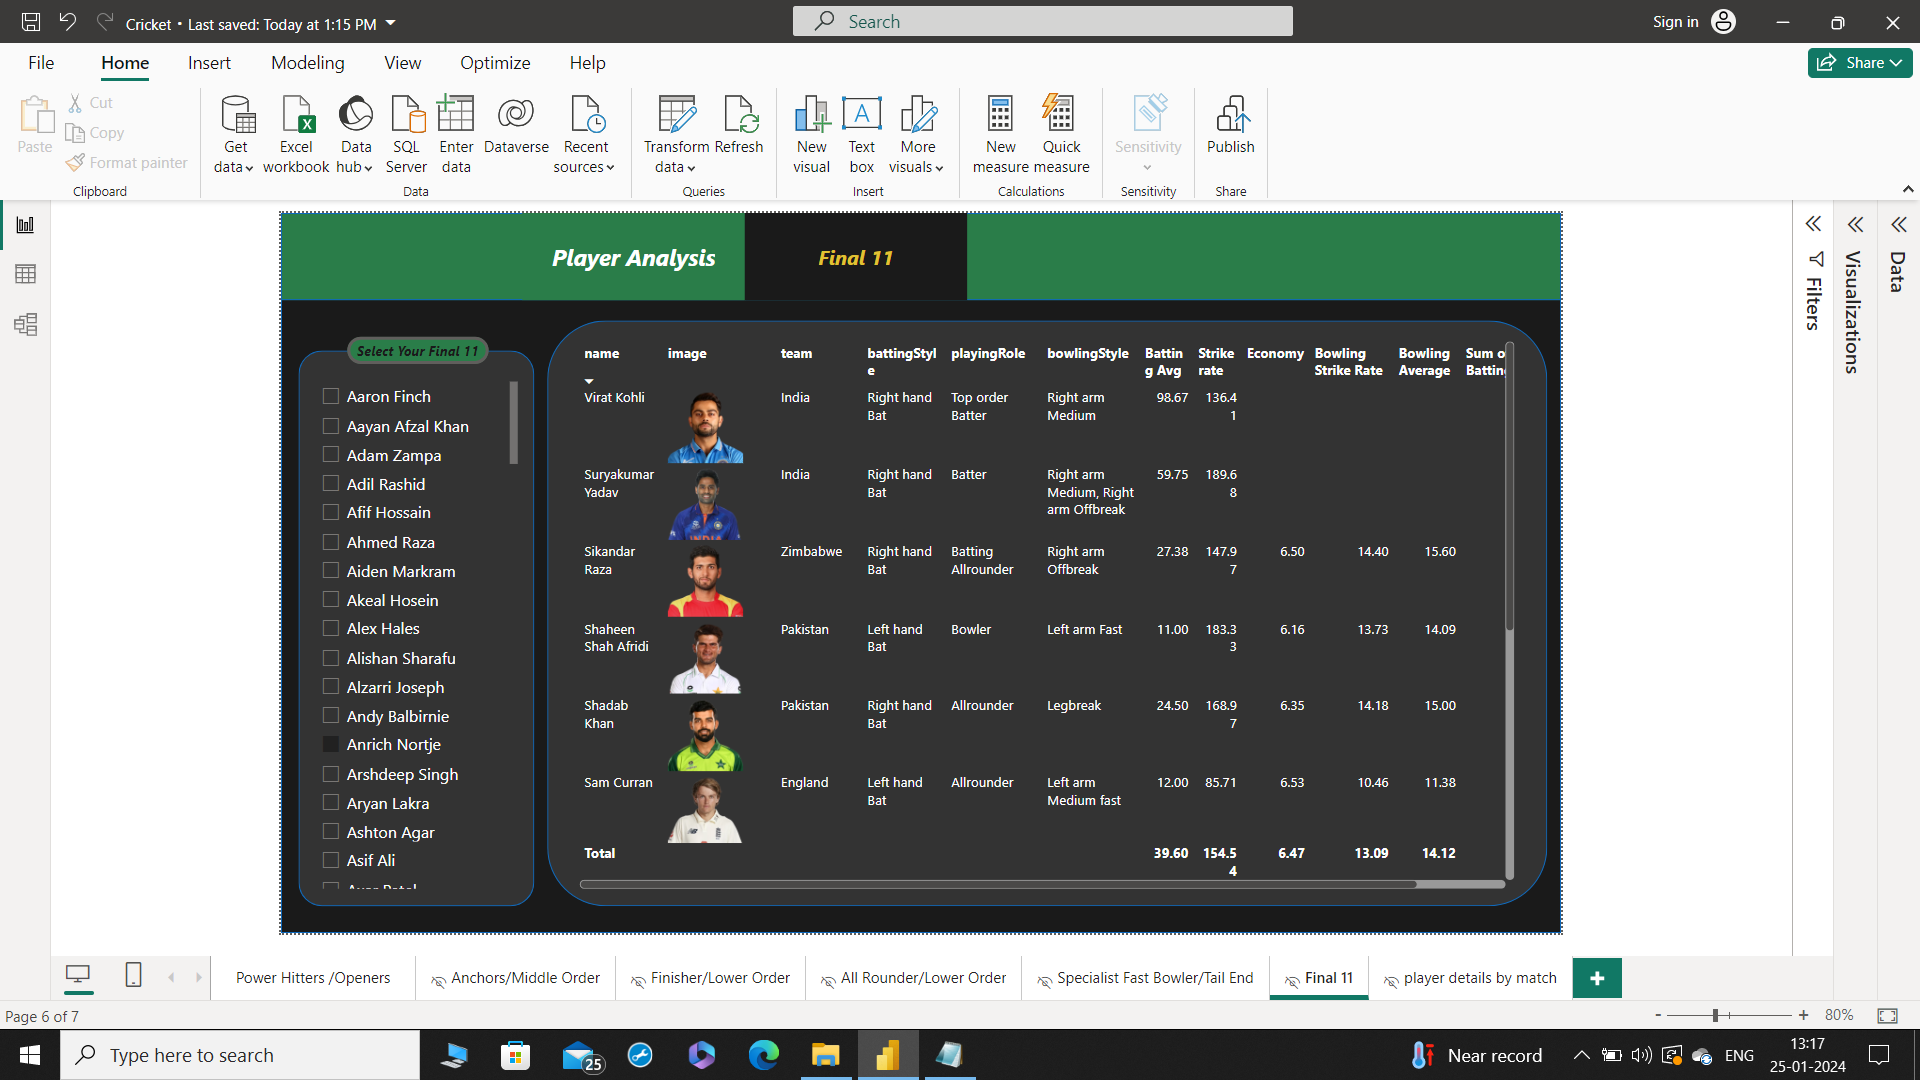

What the dashboard file says about the page in this screenshot:
{"tool":"powerbi","page":{"name":"Final 11","canvas":[1280,720],"ordinal":5},"visuals":[{"type":"shape","box":[0,78.8,1280,641.2],"z":0},{"type":"shape","box":[0,0,1280,87.1],"z":1000},{"type":"actionButton","box":[241.4,0,222.9,87.1],"z":2000},{"type":"shape","box":[17.1,137.1,235.7,555.7],"z":3000},{"type":"actionButton","box":[463.8,0,222.5,87.5],"z":4000},{"type":"shape","box":[265.7,107.1,1000,585.7],"z":5000},{"type":"actionButton","box":[65.7,124.3,141.4,27.1],"z":6000},{"type":"slicer","fields":{"Values":["dim_players.name"]},"box":[28.6,164.3,212.9,517.1],"z":7000},{"type":"tableEx","fields":{"Values":["dim_players.name","dim_players.image","dim_players.team","dim_players.battingStyle","dim_players.playingRole","dim_players.bowlingStyle","Key Measures.Batting Avg","Key Measures.Strike rate","Key Measures.Economy","Key Measures.Bowling Strike Rate","Key Measures.Bowling Average","Sum(dim_players.Custom Batting Order)"]},"box":[292.9,124.3,945.7,557.1],"z":8000}]}

Visuals, with their boxes on the page's 1280x720 design canvas (x1, y1, x2, y2). These are canvas units, not pixel positions in the 1920x1080 screenshot, which may show the page scaled, cropped or inside an application window:
shape: 0,79,1280,720
shape: 0,0,1280,87
actionButton: 241,0,464,87
shape: 17,137,253,693
actionButton: 464,0,686,88
shape: 266,107,1266,693
actionButton: 66,124,207,151
slicer - dim_players.name: 29,164,242,681
tableEx - dim_players.name x dim_players.image: 293,124,1239,681
